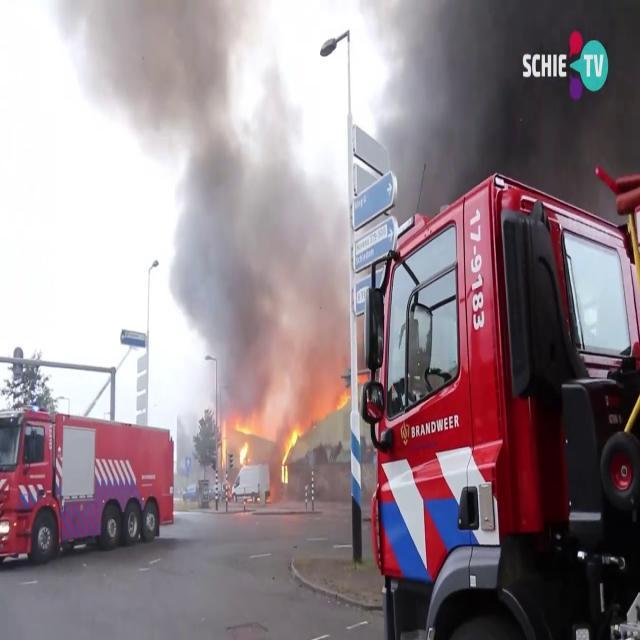Fire: (217, 411, 303, 482), (279, 423, 302, 486)
Smoke: (98, 0, 350, 422), (367, 0, 598, 225)
